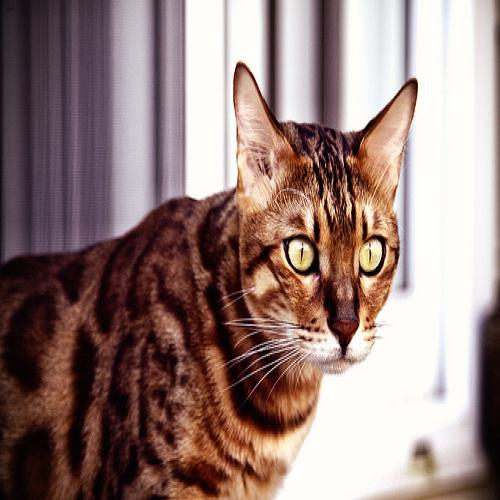bengal: (225, 56, 425, 396)
